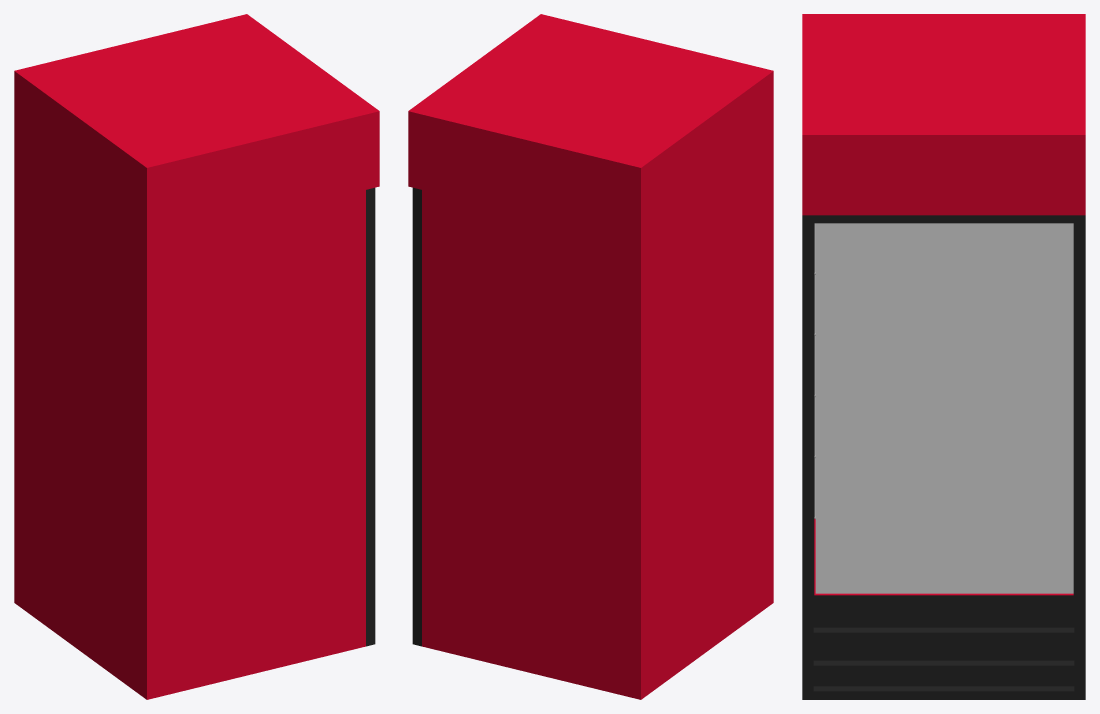
Rendered from fridge 1.fbx.
The picture shows the model from 3 angles, left to right: view 1: azimuth 30°, elevation 25°; view 2: azimuth 150°, elevation 25°; view 3: azimuth 270°, elevation 25°; orthographic projection. The views are drawn at different scales.
Parts seen in each view (by area): view 1: Fridge, Fridge.001; view 2: Fridge, Fridge.001; view 3: Glass, Fridge, Fridge.001, Grill.
Part boxes in pixels (bbox=[...]): Fridge: bbox=[14, 14, 379, 699]; Fridge.001: bbox=[366, 187, 375, 557]; Fridge: bbox=[408, 14, 773, 699]; Fridge.001: bbox=[412, 187, 421, 557]; Glass: bbox=[815, 223, 1073, 593]; Fridge: bbox=[802, 14, 1085, 699]; Fridge.001: bbox=[802, 215, 1085, 605]; Grill: bbox=[814, 223, 815, 519].
Size of the model in its own units: 213 by 464 by 210.
